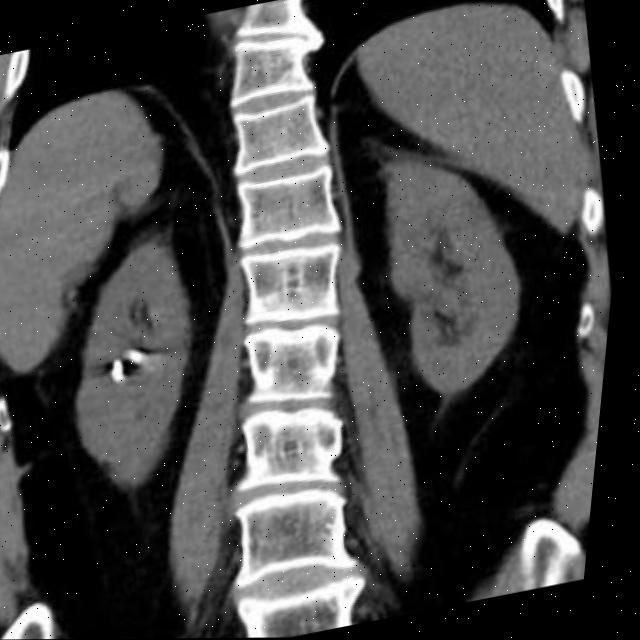Tas_Var: (117, 358, 136, 384), (137, 347, 154, 367)
